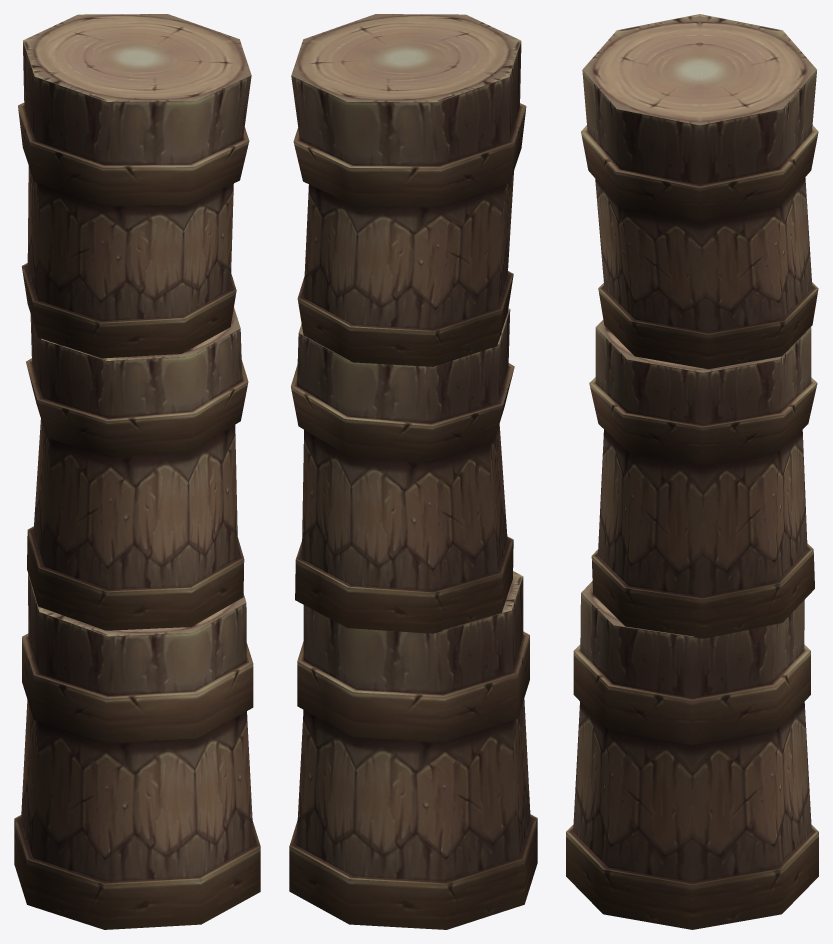
Rendered from Lty_zhuzi02.FBX.
3 views of the same model, side by side, from view 1: azimuth 30°, elevation 25°; view 2: azimuth 150°, elevation 25°; view 3: azimuth 270°, elevation 25° (orthographic).
Visible parts, largest first — view 1: Lty_zhuzi02; view 2: Lty_zhuzi02; view 3: Lty_zhuzi02.
Part boxes in pixels (x1,y1,x2,y2): Lty_zhuzi02: [14, 14, 260, 929]; Lty_zhuzi02: [289, 14, 537, 929]; Lty_zhuzi02: [566, 14, 818, 929].
Size of the model in its own units: 76.3 by 76.3 by 271.
